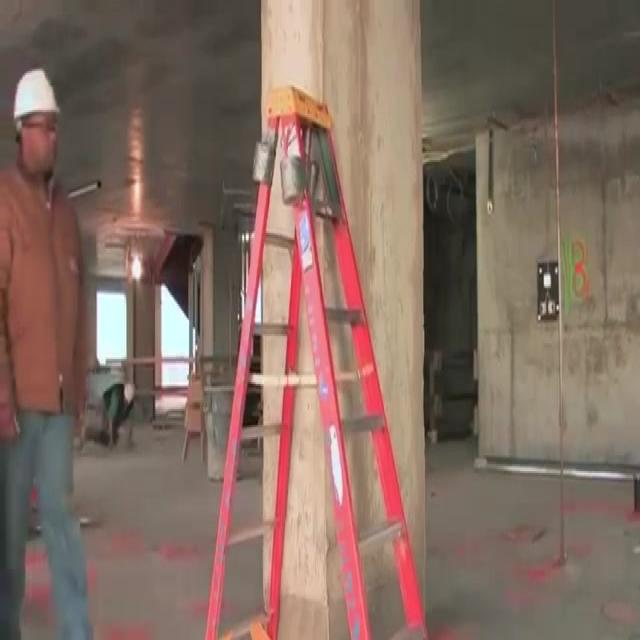Safety-Helmet: (5, 55, 69, 139)
